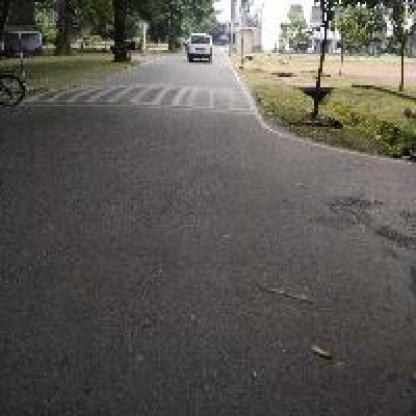Speed Bump: (27, 77, 260, 116)
